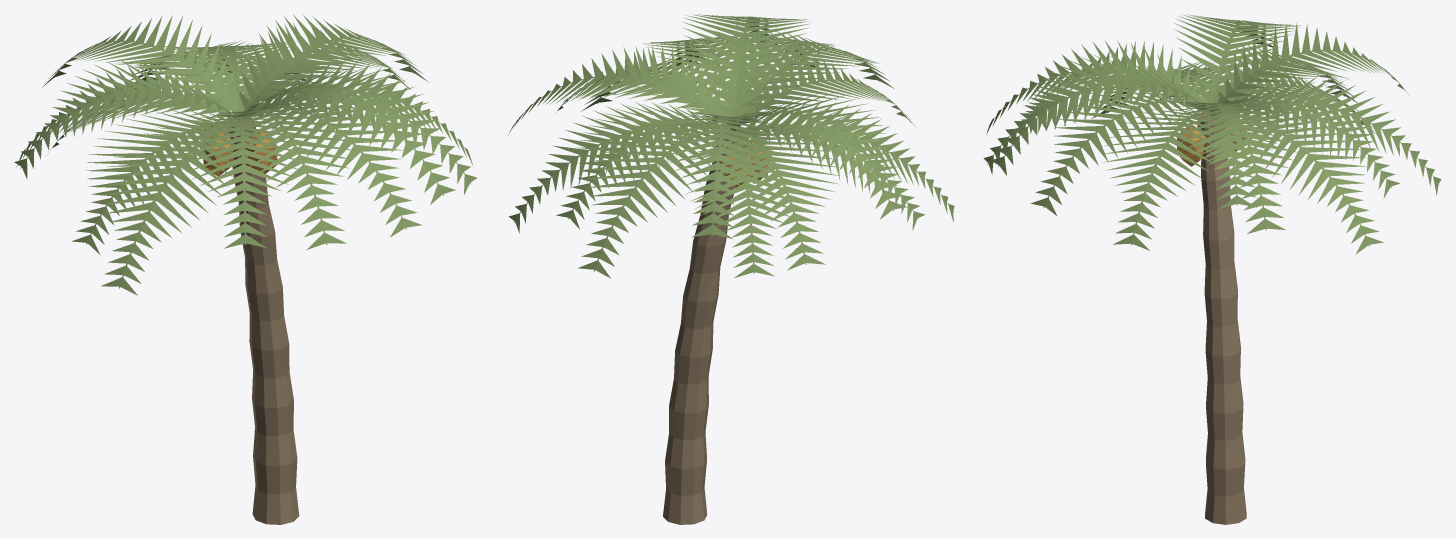
File: SM_DST_Settle_Palm_B.fbx
The picture shows the model from 3 angles, left to right: view 1: azimuth 30°, elevation 25°; view 2: azimuth 150°, elevation 25°; view 3: azimuth 270°, elevation 25°; orthographic projection. The views are drawn at different scales.
Visible parts, largest first — view 1: SM_DST_Settle_Palm_B; view 2: SM_DST_Settle_Palm_B; view 3: SM_DST_Settle_Palm_B.
Boxes of the visible parts, x1,y1,x2,y2 form: SM_DST_Settle_Palm_B: (14, 14, 477, 524); SM_DST_Settle_Palm_B: (508, 14, 954, 524); SM_DST_Settle_Palm_B: (983, 14, 1441, 524).
Size of the model in its own units: 5.61 by 6.19 by 5.9.
